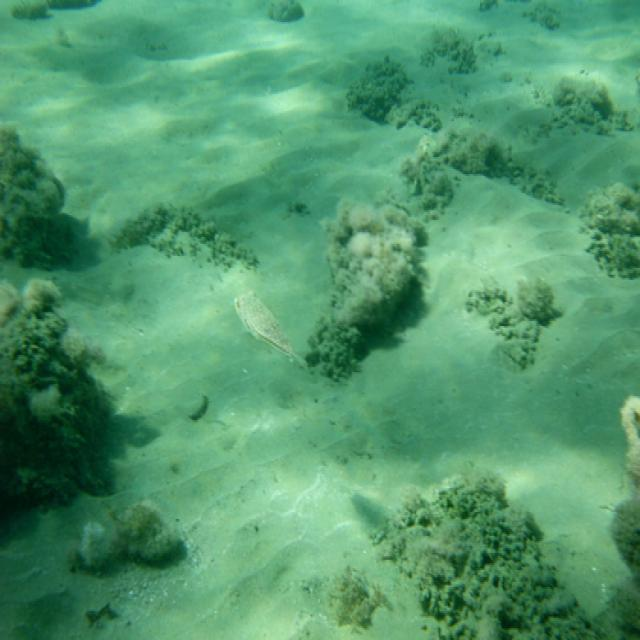Balik: (235, 292, 307, 368)
